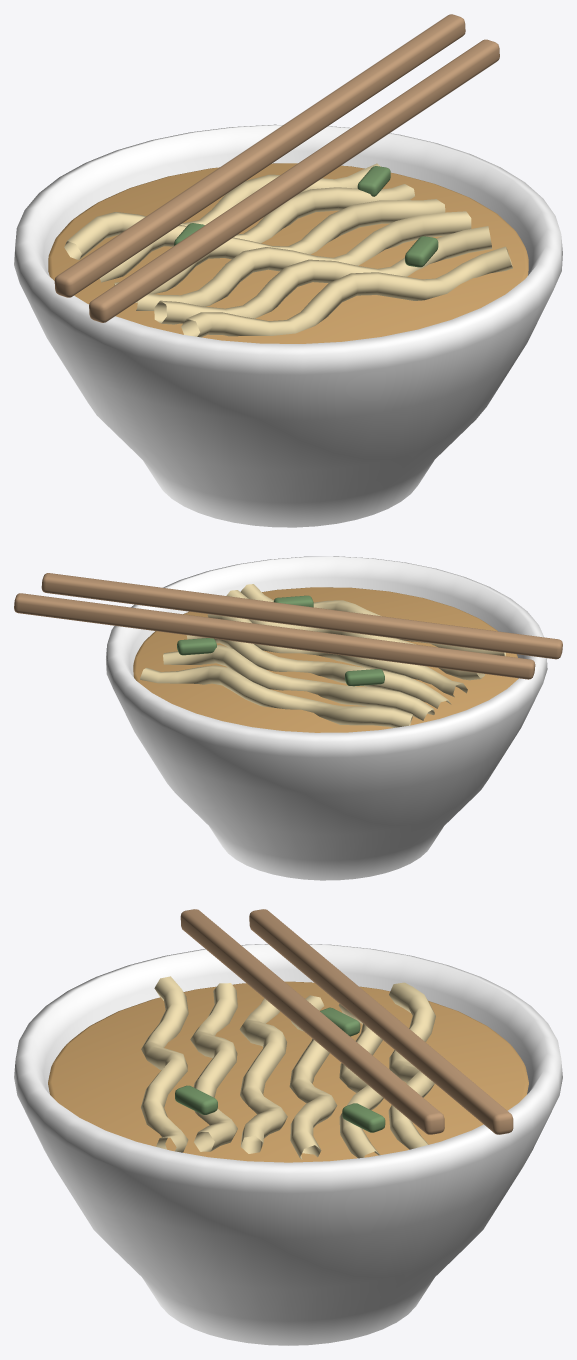
The model's file is option-noodles.glb.
3 views of the same model, one above another, from view 1: azimuth 30°, elevation 25°; view 2: azimuth 150°, elevation 25°; view 3: azimuth 270°, elevation 25° (orthographic). The views are drawn at different scales.
Parts seen in each view (by area): view 1: Model_Noodles_Surface, Model_Noodles_Bread, Model_Noodles_Wood, Model_Noodles_Bun, Model_Noodles_Leaf; view 2: Model_Noodles_Surface, Model_Noodles_Wood, Model_Noodles_Bread, Model_Noodles_Bun, Model_Noodles_Leaf; view 3: Model_Noodles_Surface, Model_Noodles_Bun, Model_Noodles_Bread, Model_Noodles_Wood, Model_Noodles_Leaf.
Part boxes in pixels (box(x1,y1,x2,y2)): Model_Noodles_Surface: box(14, 124, 562, 527); Model_Noodles_Bread: box(64, 163, 512, 337); Model_Noodles_Wood: box(54, 14, 499, 322); Model_Noodles_Bun: box(48, 163, 528, 343); Model_Noodles_Leaf: box(174, 166, 438, 267); Model_Noodles_Surface: box(106, 556, 547, 880); Model_Noodles_Wood: box(14, 573, 562, 679); Model_Noodles_Bread: box(140, 584, 505, 727); Model_Noodles_Bun: box(133, 587, 518, 732); Model_Noodles_Leaf: box(177, 595, 384, 686); Model_Noodles_Surface: box(14, 944, 562, 1345); Model_Noodles_Bun: box(48, 981, 528, 1162); Model_Noodles_Bread: box(141, 976, 435, 1159); Model_Noodles_Wood: box(180, 909, 513, 1134); Model_Noodles_Leaf: box(175, 1007, 385, 1132).
Size of the model in its own units: 0.7255 by 0.4236 by 0.656.
